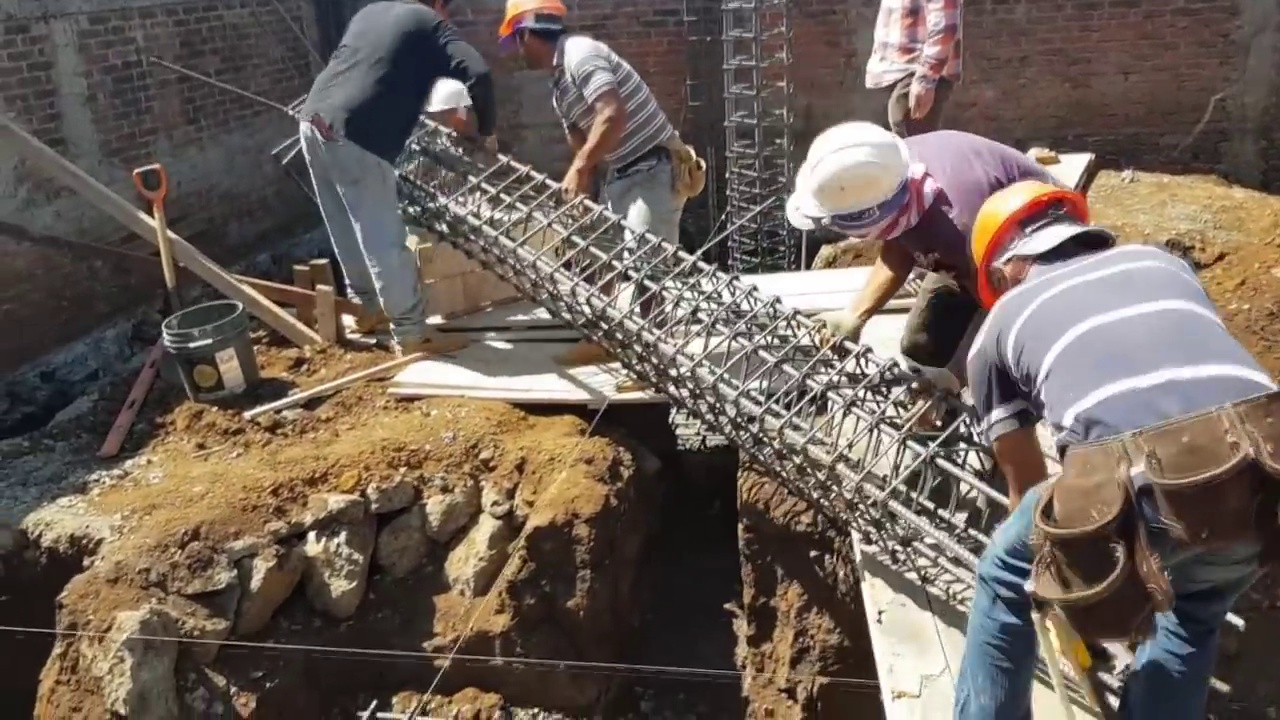helmet: (964, 176, 1097, 294), (789, 115, 918, 235), (499, 0, 564, 39), (423, 77, 473, 116)
helmet-on: (964, 177, 1120, 312), (788, 117, 939, 252), (498, 0, 567, 72), (421, 75, 477, 132)
person: (955, 167, 1270, 692), (499, 1, 711, 403), (786, 121, 1088, 383), (293, 0, 498, 335), (443, 1, 575, 172), (858, 0, 966, 141)
